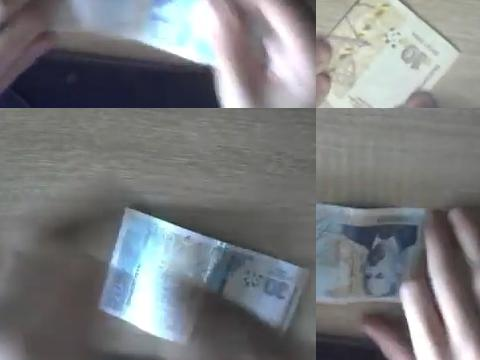10leva: (326, 0, 462, 108)
20leva: (65, 0, 316, 108), (105, 207, 311, 333), (316, 202, 427, 303)
